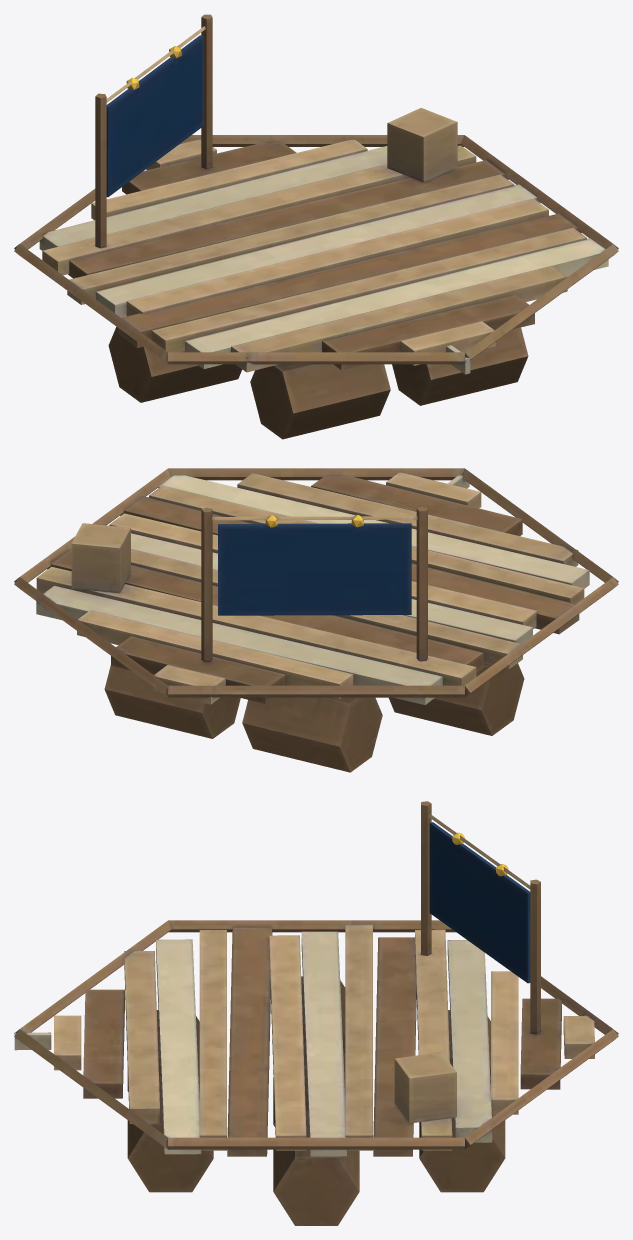
File: raft-b-age1-lite.glb
3 views of the same model, one above another, from view 1: azimuth 30°, elevation 25°; view 2: azimuth 150°, elevation 25°; view 3: azimuth 270°, elevation 25° (orthographic).
Parts seen in each view (by area): view 1: raft-b-age1-lite; view 2: raft-b-age1-lite; view 3: raft-b-age1-lite.
Boxes of the visible parts, box(x1,y1,x2,y2) form: raft-b-age1-lite: box(14, 14, 618, 439); raft-b-age1-lite: box(14, 468, 618, 772); raft-b-age1-lite: box(14, 801, 618, 1225).
Bounding box in the file's own units: 1.59 × 0.8426 × 1.83.
1 material, 1 textured.
